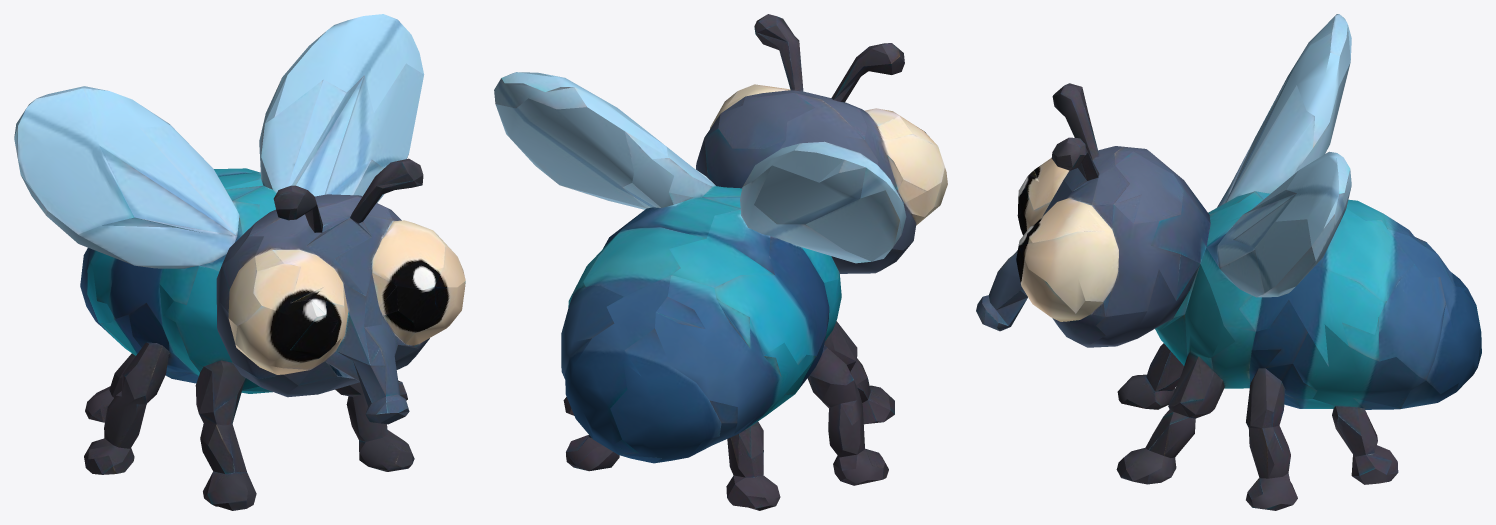
Rendered from fly.glb.
The picture shows the model from 3 angles, left to right: view 1: azimuth 30°, elevation 25°; view 2: azimuth 150°, elevation 25°; view 3: azimuth 270°, elevation 25°; orthographic projection. The views are drawn at different scales.
Size of the model in its own units: 1.69 by 1.44 by 1.9.
1 material, 1 textured.
